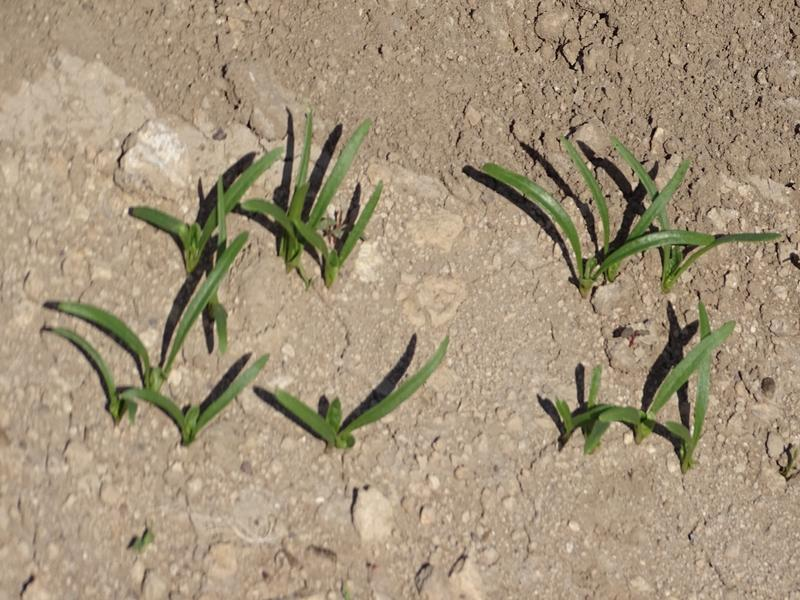Espinaca: (54, 116, 386, 444), (480, 115, 781, 278), (536, 289, 729, 456)
